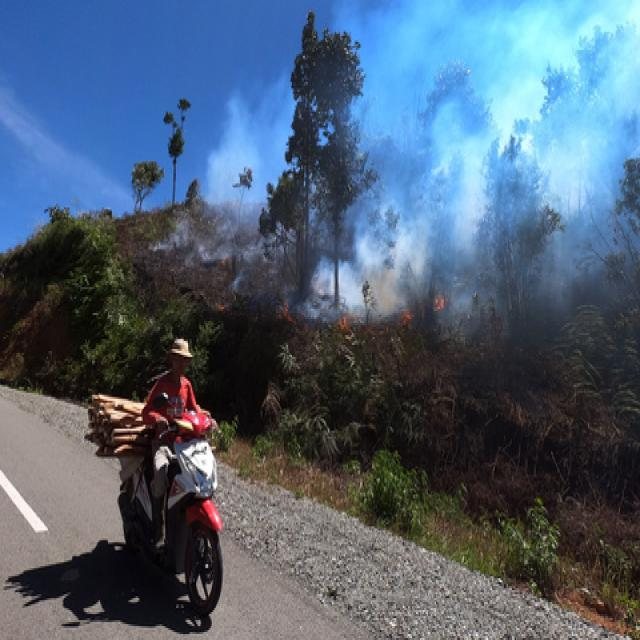Bike: (83, 384, 231, 616)
